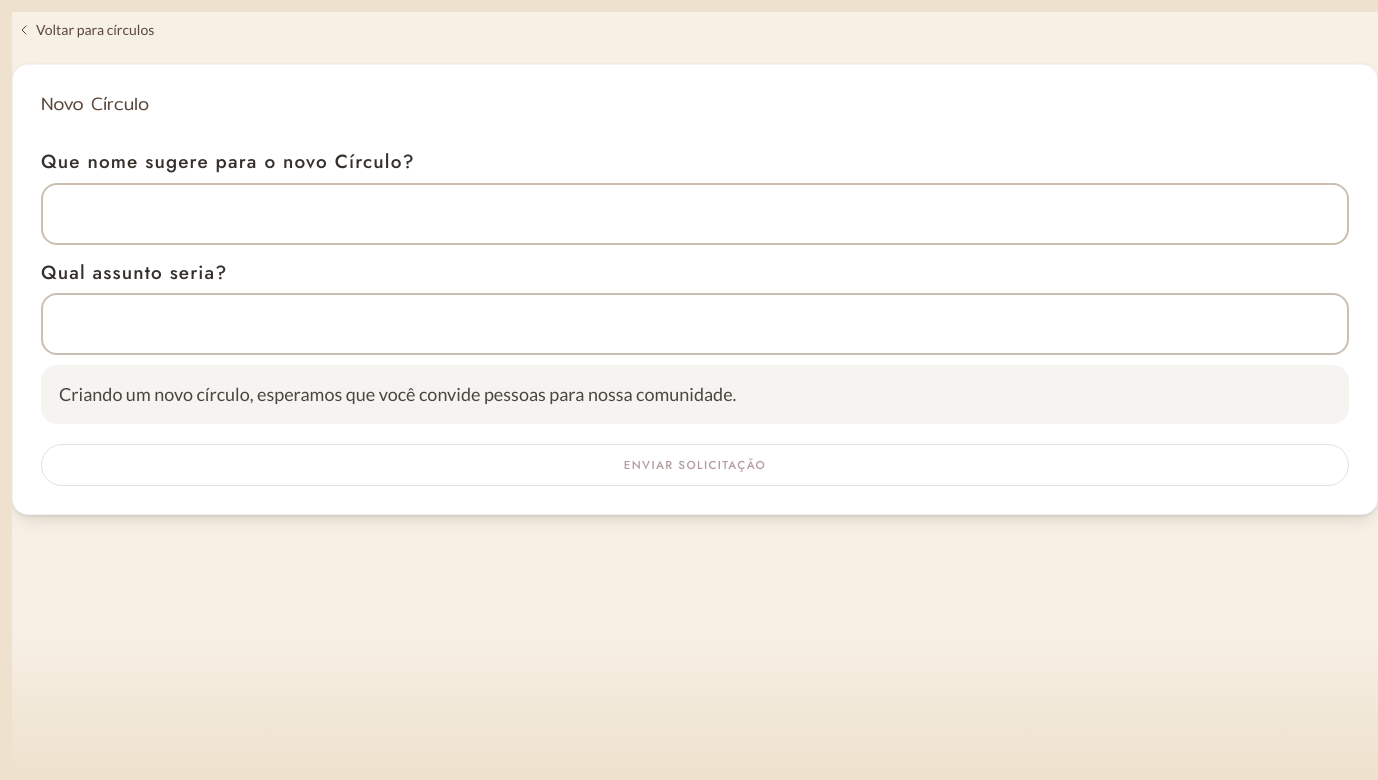
Test: CircleRequestForm › não deixa enviar sem o nome sugerido (único campo obrigatório)
Expected: the button "Enviar solicitação" is disabled, [41,444,1349,486]
Type "Mães de primeira viagem" into the field labelled "Que nome sugere para o novo Círculo?" at (695, 214), box [41,182,1349,244]
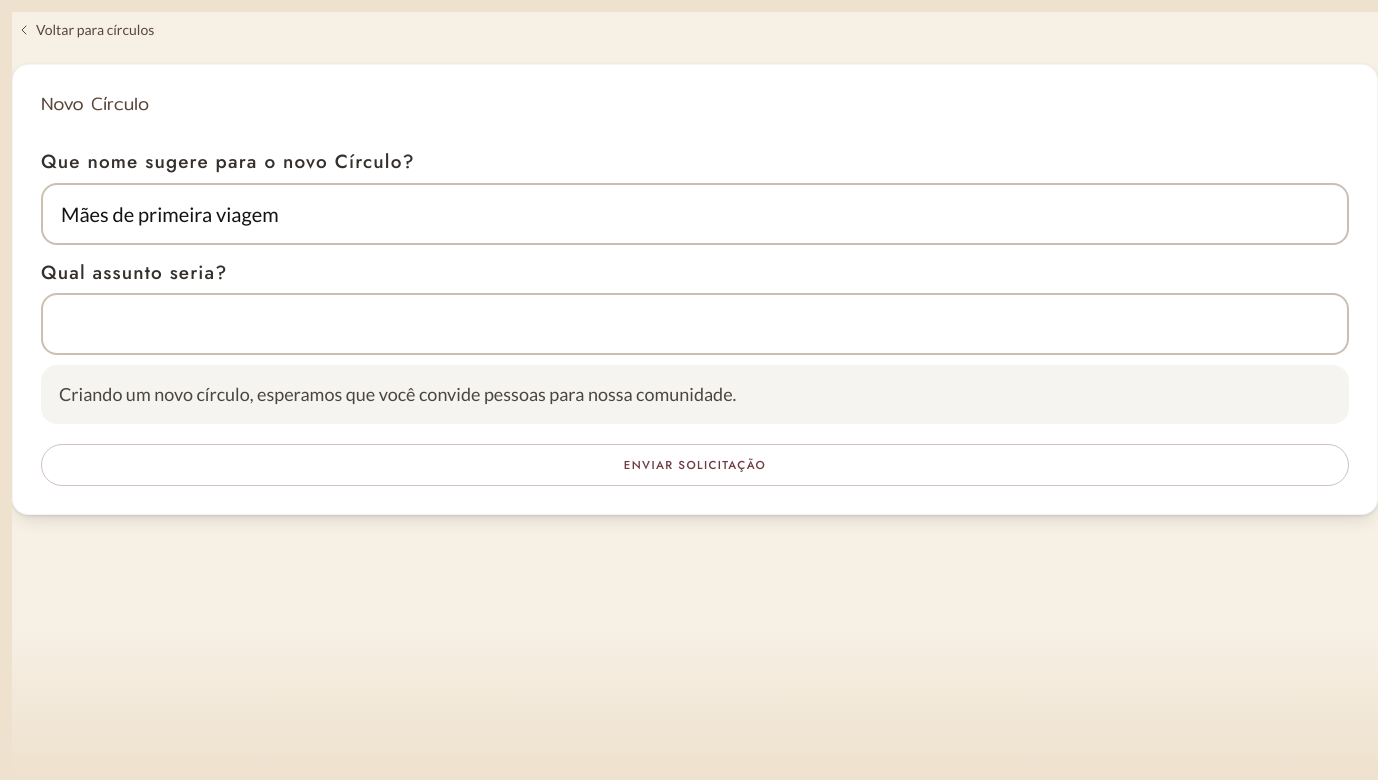
Now the button "Enviar solicitação" is enabled, box [41,444,1349,486]
